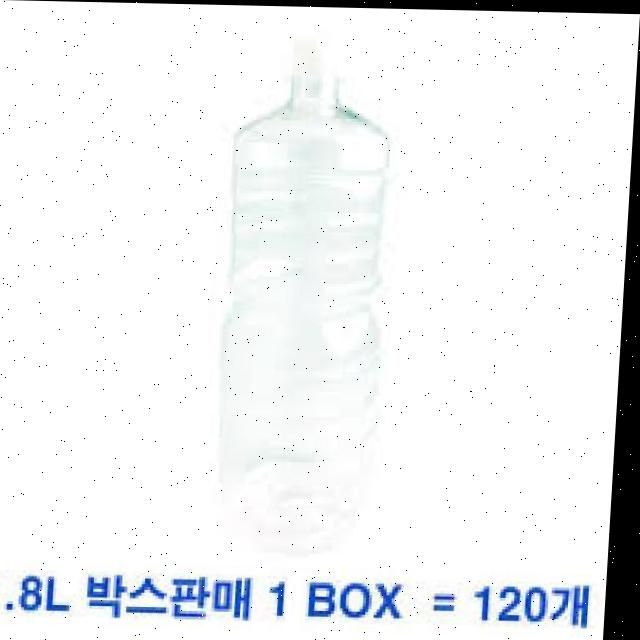bottle: (181, 24, 413, 573)
